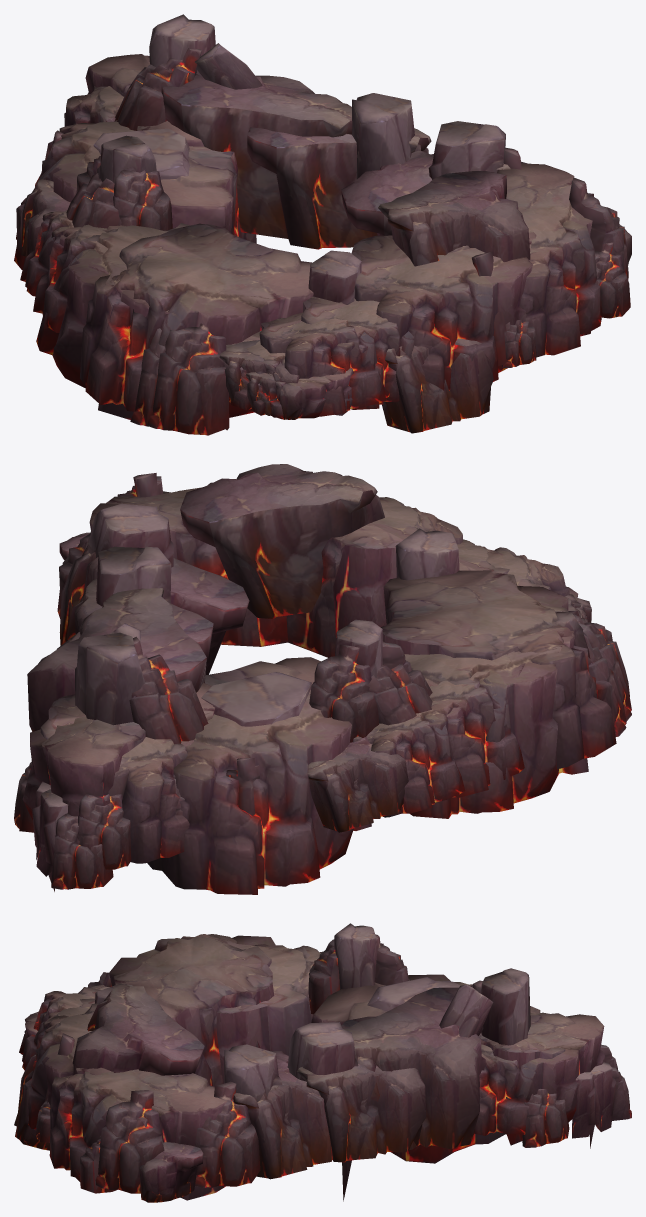
File: yanshi2_1.fbx
3 renders of one model, top to bottom at view 1: azimuth 30°, elevation 25°; view 2: azimuth 150°, elevation 25°; view 3: azimuth 270°, elevation 25°, orthographic. The views are drawn at different scales.
Visible parts, largest first — view 1: yanshi2_1; view 2: yanshi2_1; view 3: yanshi2_1.
Boxes of the visible parts, x1,y1,x2,y2 form: yanshi2_1: (14,14,631,435); yanshi2_1: (14,464,631,894); yanshi2_1: (14,923,631,1202).
Size of the model in its own units: 7252 by 3039 by 8789.
